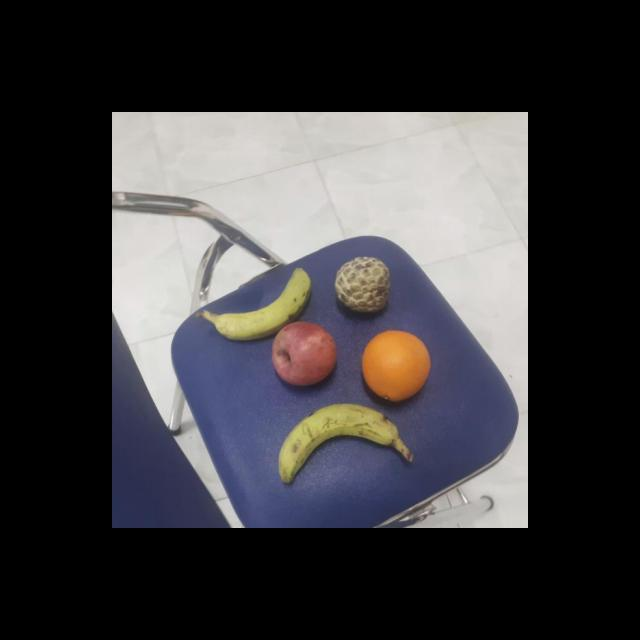Sakya fruit: (332, 252, 393, 314)
apple: (267, 320, 339, 388)
banana: (276, 402, 400, 484), (212, 258, 318, 342)
orange: (358, 328, 434, 404)
